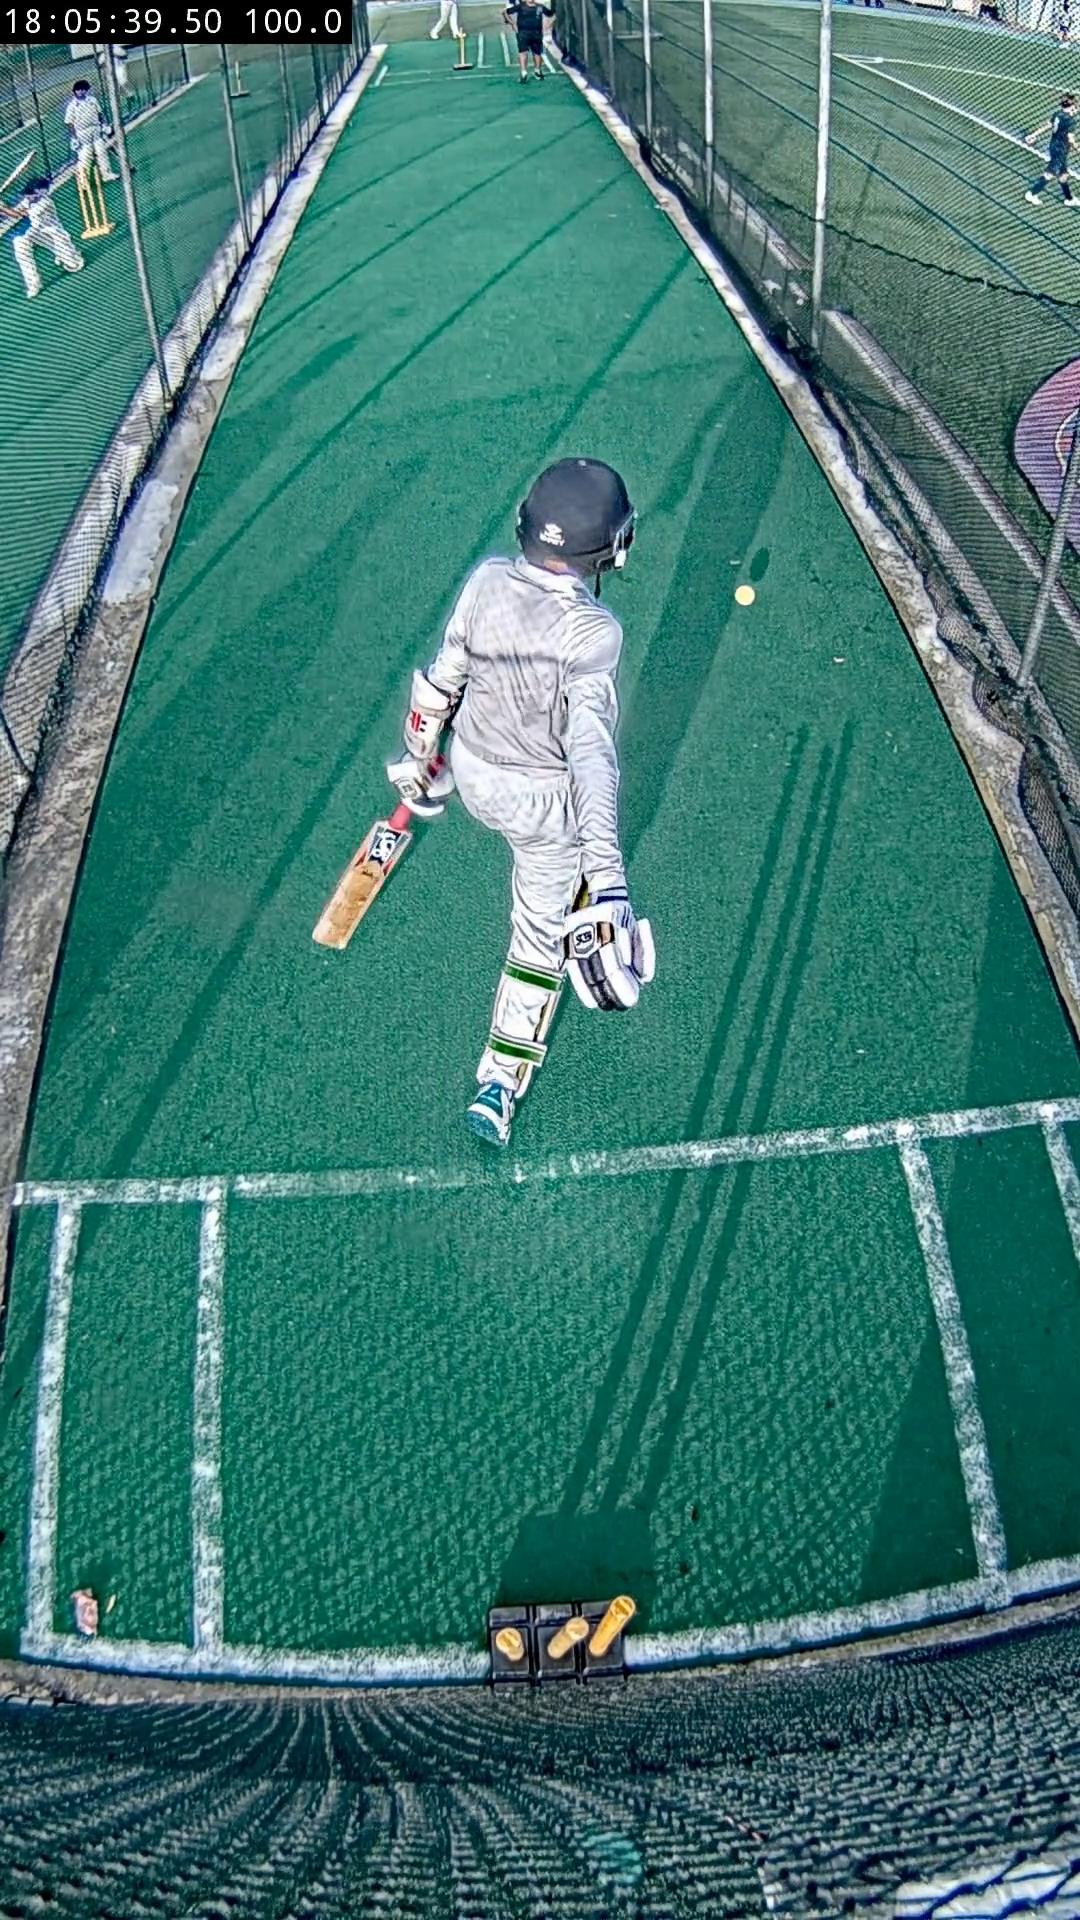ball: (735, 585, 757, 608)
bat: (311, 803, 413, 948)
gloves: (563, 897, 657, 1009), (386, 754, 454, 818)
helmet: (517, 458, 634, 574)
stumps: (488, 1594, 637, 1681)
